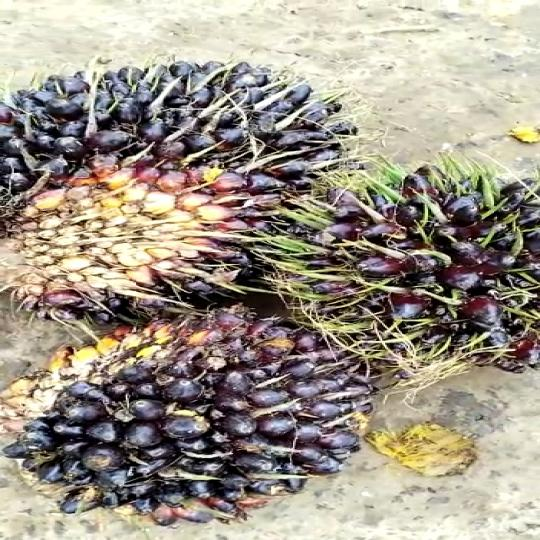mentah: (7, 58, 359, 332), (0, 309, 378, 535), (254, 156, 538, 384)
